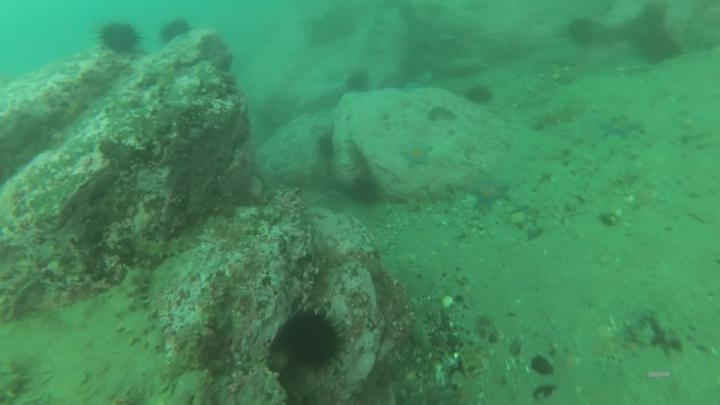echinus: (285, 314, 337, 367), (101, 26, 138, 51), (649, 43, 683, 62), (570, 20, 597, 42), (348, 72, 369, 91), (469, 87, 491, 105), (164, 21, 191, 35)
holothurian: (116, 311, 168, 351), (135, 240, 196, 258), (130, 275, 153, 305)
scallop: (434, 373, 449, 388), (441, 295, 453, 308)
starfish: (474, 178, 510, 207), (602, 116, 639, 137), (403, 144, 433, 168)
